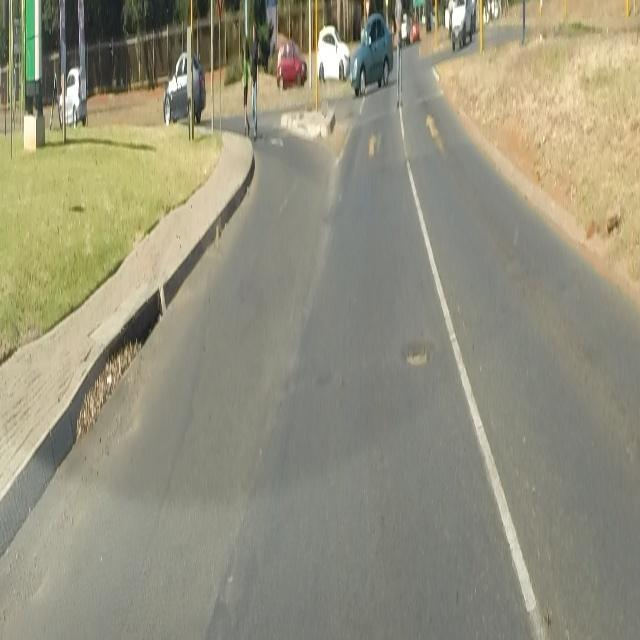pothole: (400, 338, 429, 374)
